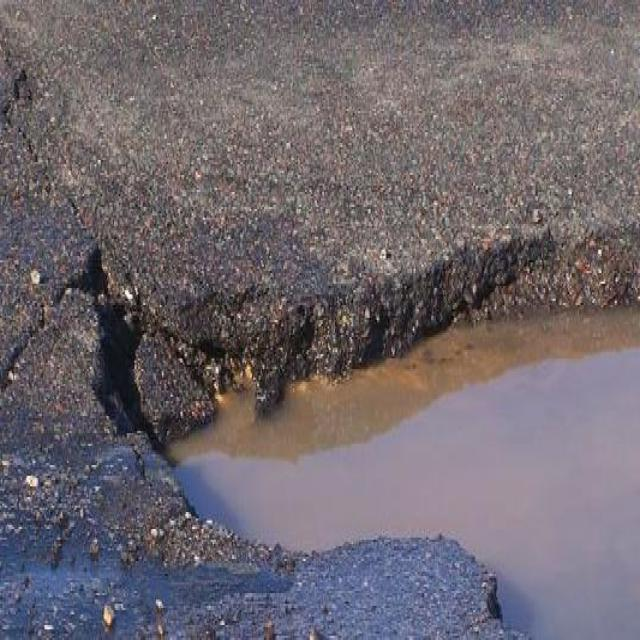pothole: (79, 213, 640, 638)
